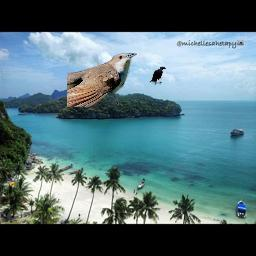Crow: (149, 66, 166, 85)
Cuckoo: (67, 53, 137, 107)
